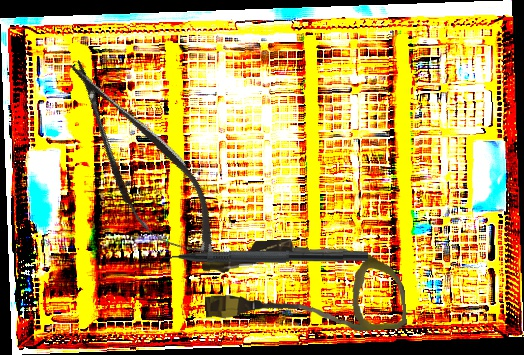Cannula: (200, 231, 408, 342)
Chopper: (146, 235, 369, 266)
Micro Scissor: (42, 41, 238, 281)
